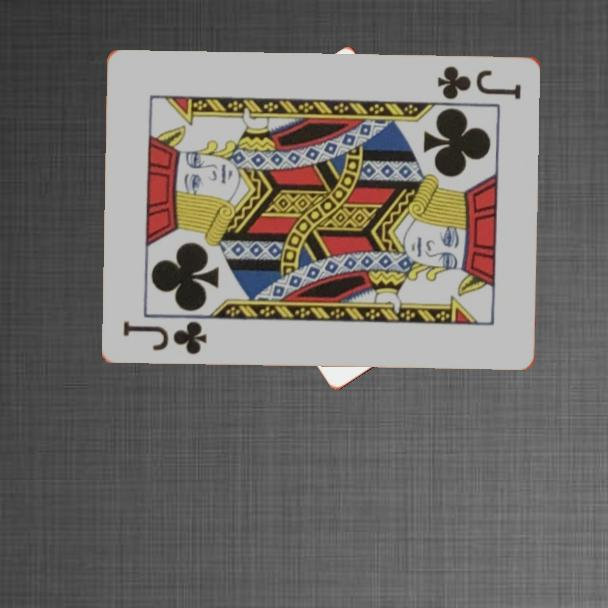c11: (120, 316, 210, 357), (435, 62, 525, 101)
